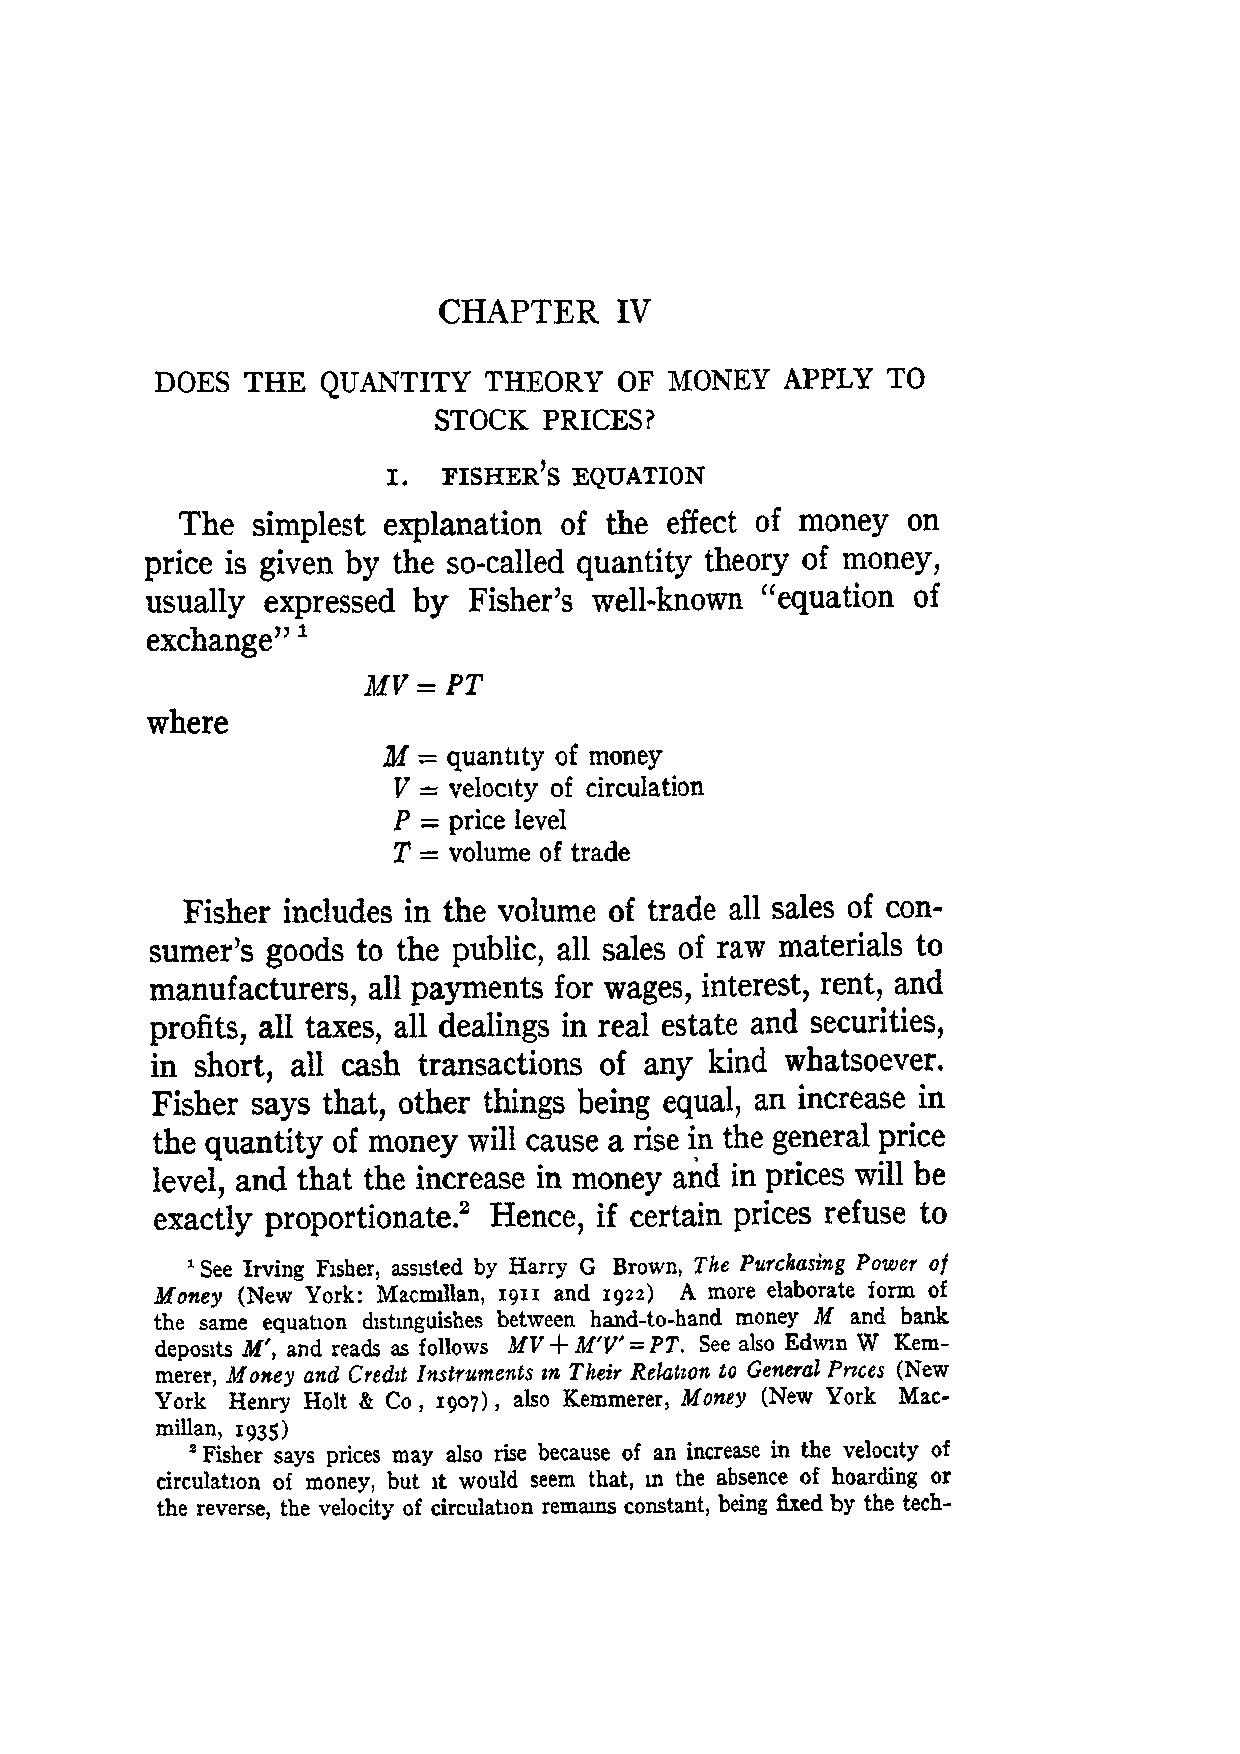chapter: (152, 297, 927, 433), (382, 462, 705, 493)
content: (142, 506, 951, 1523)
